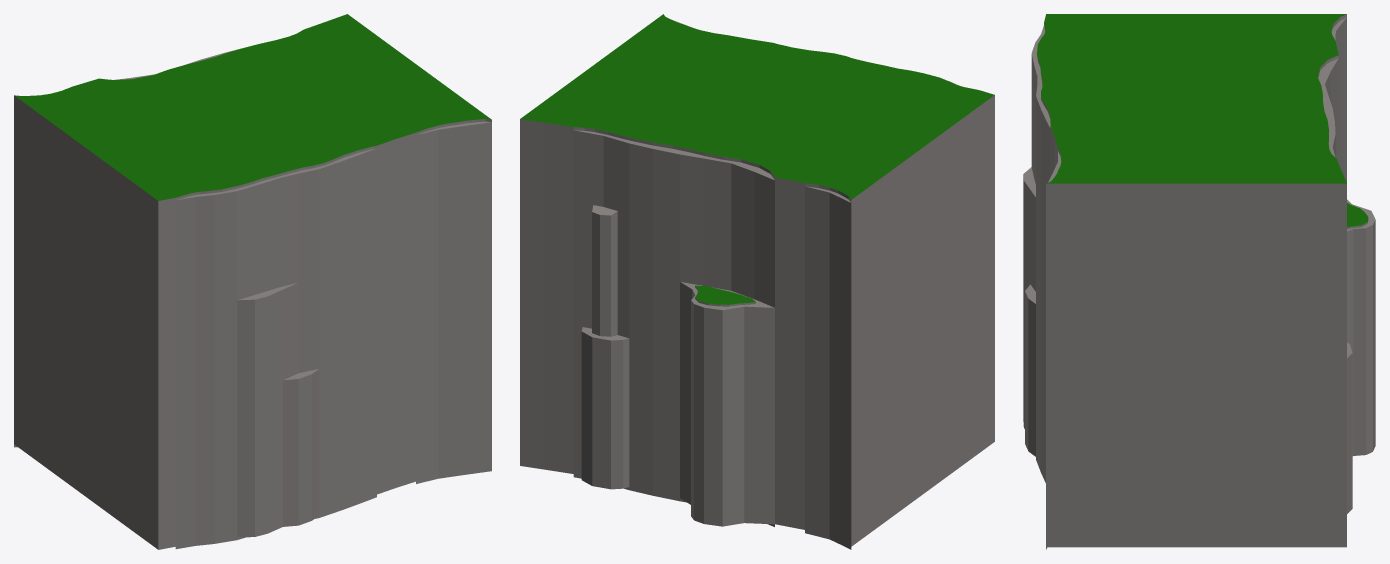
Rendered from Path.fbx.
3 views of the same model, side by side, from view 1: azimuth 30°, elevation 25°; view 2: azimuth 150°, elevation 25°; view 3: azimuth 270°, elevation 25° (orthographic). The views are drawn at different scales.
Visible parts, largest first — view 1: Plane.006; view 2: Plane.006; view 3: Plane.006.
Boxes of the visible parts, x1=… form: Plane.006: x1=14, y1=14, x2=491, y2=549; Plane.006: x1=520, y1=14, x2=994, y2=549; Plane.006: x1=1023, y1=14, x2=1375, y2=549.
Size of the model in its own units: 100 by 101 by 87.73.
